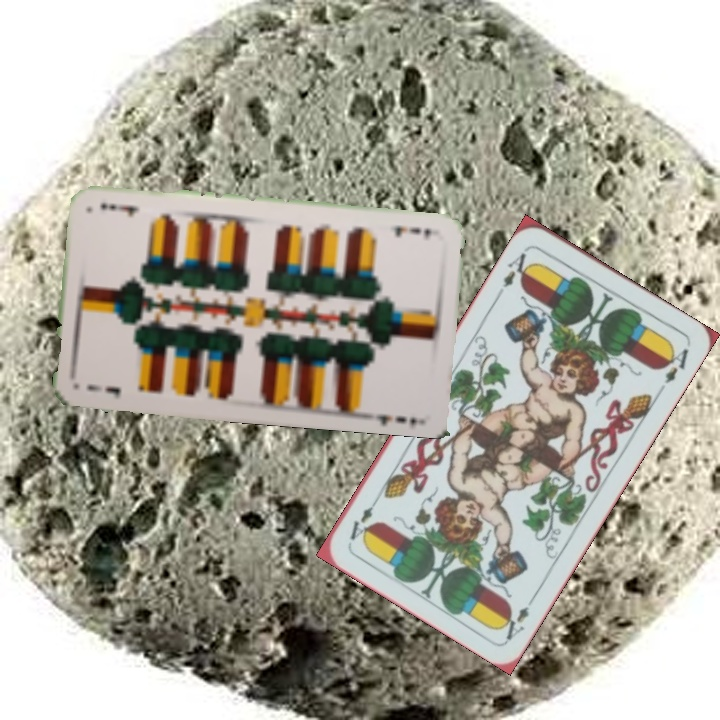E7: (385, 222, 434, 243), (84, 380, 124, 402)
EA: (496, 590, 539, 643), (498, 244, 535, 291)
